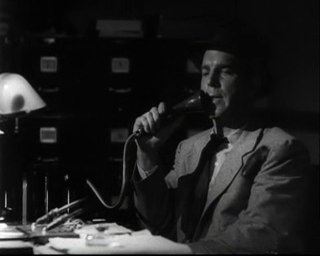face: (201, 57, 236, 115)
ms: (1, 1, 320, 256)
person: (132, 40, 313, 255)
